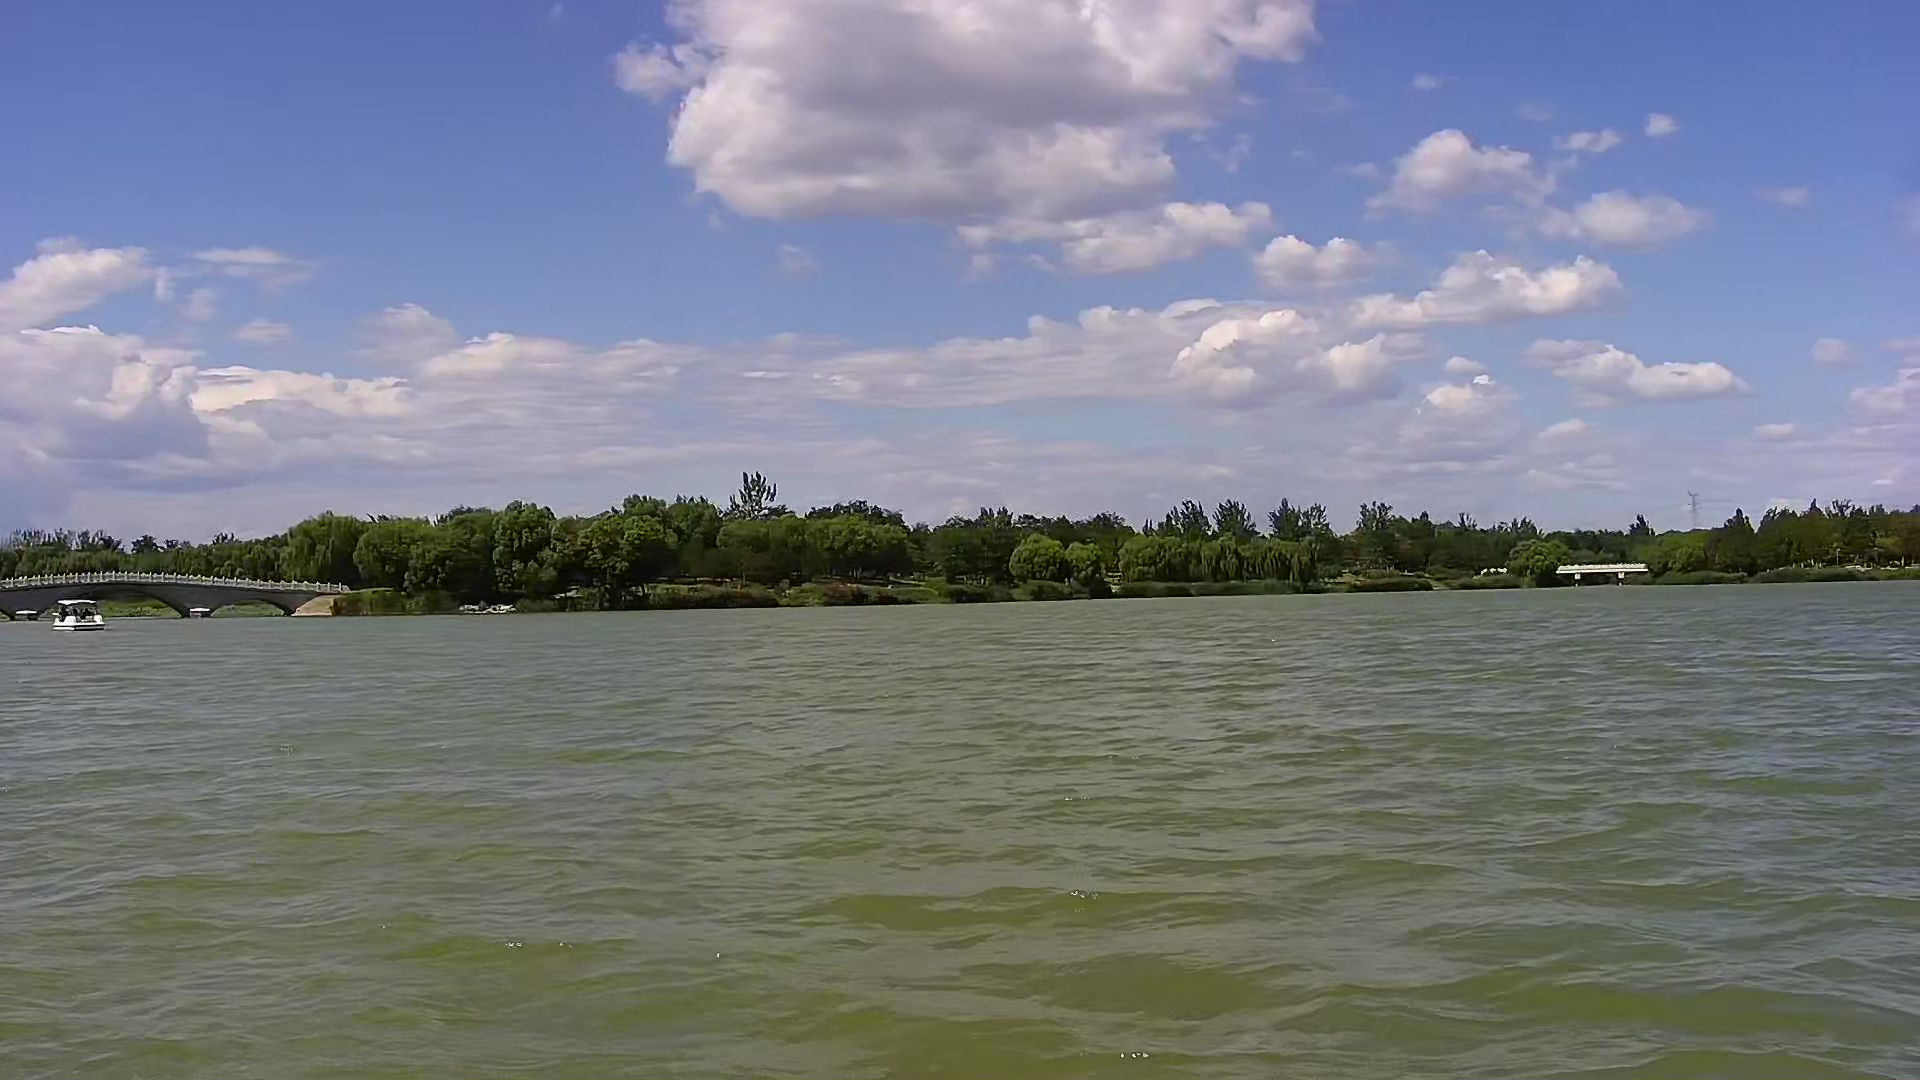boat: (47, 597, 115, 634)
bridge: (8, 564, 349, 622), (1545, 560, 1658, 589)
